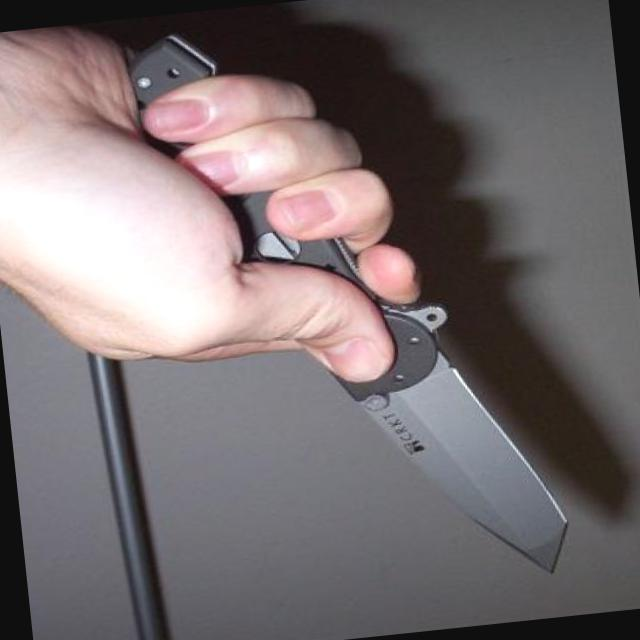knife: (154, 100, 596, 630)
